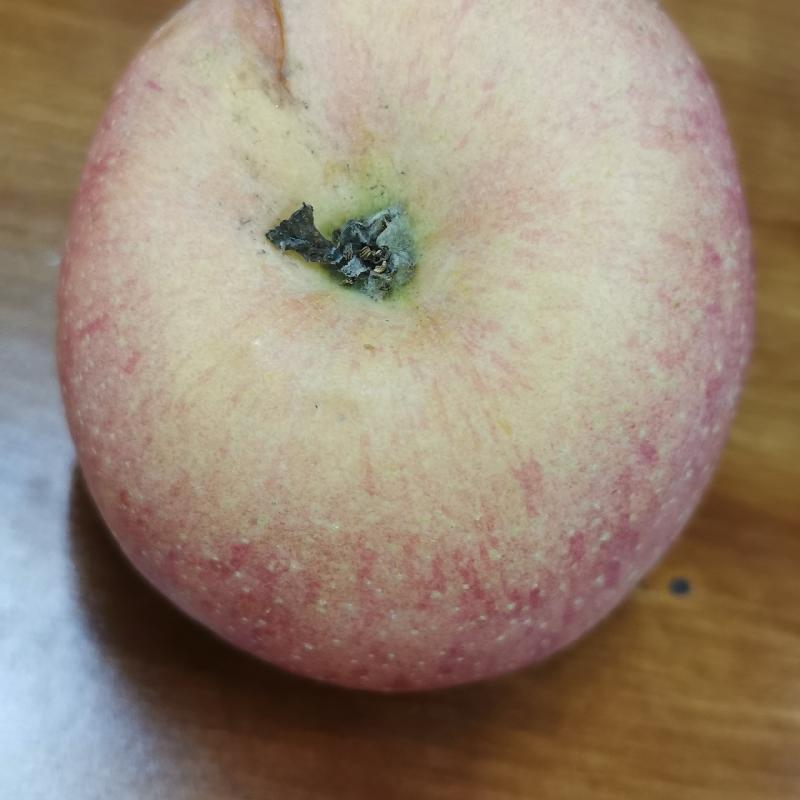apples: (47, 0, 759, 698)
